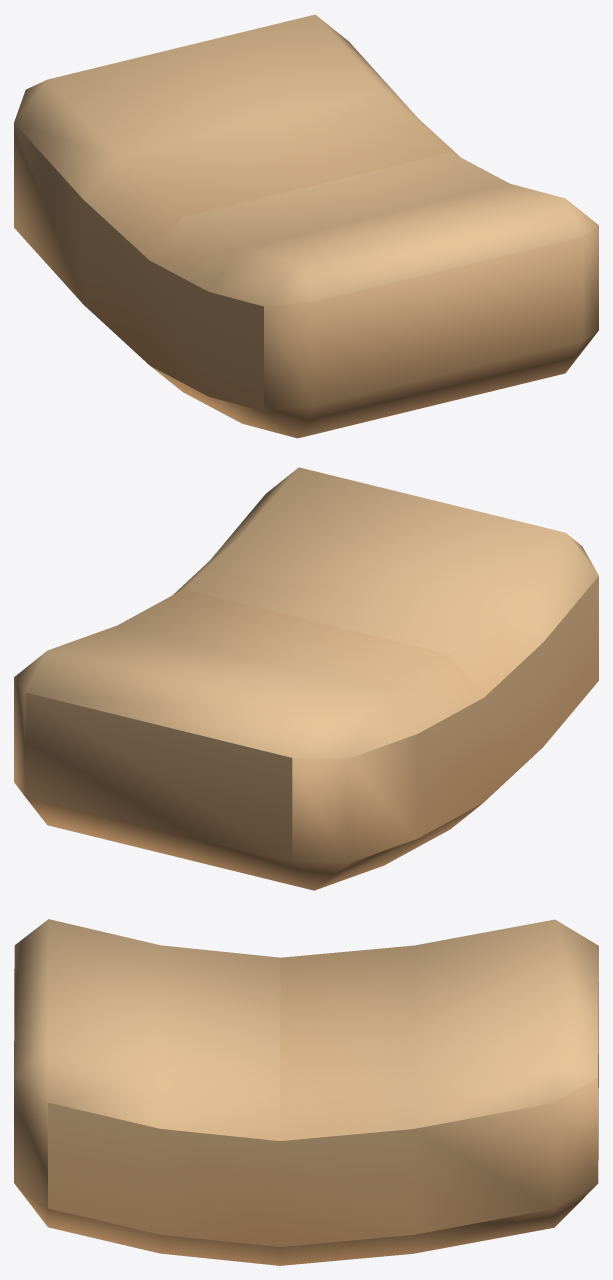
The model's file is sack.glb.
3 views of the same model, one above another, from view 1: azimuth 30°, elevation 25°; view 2: azimuth 150°, elevation 25°; view 3: azimuth 270°, elevation 25° (orthographic).
Visible parts, largest first — view 1: sack; view 2: sack; view 3: sack.
Boxes of the visible parts, x1=… form: sack: x1=14, y1=14, x2=598, y2=438; sack: x1=14, y1=467, x2=598, y2=890; sack: x1=14, y1=919, x2=598, y2=1265.
Size of the model in its own units: 0.1065 by 0.0647 by 0.1595.
1 material, 1 textured.
